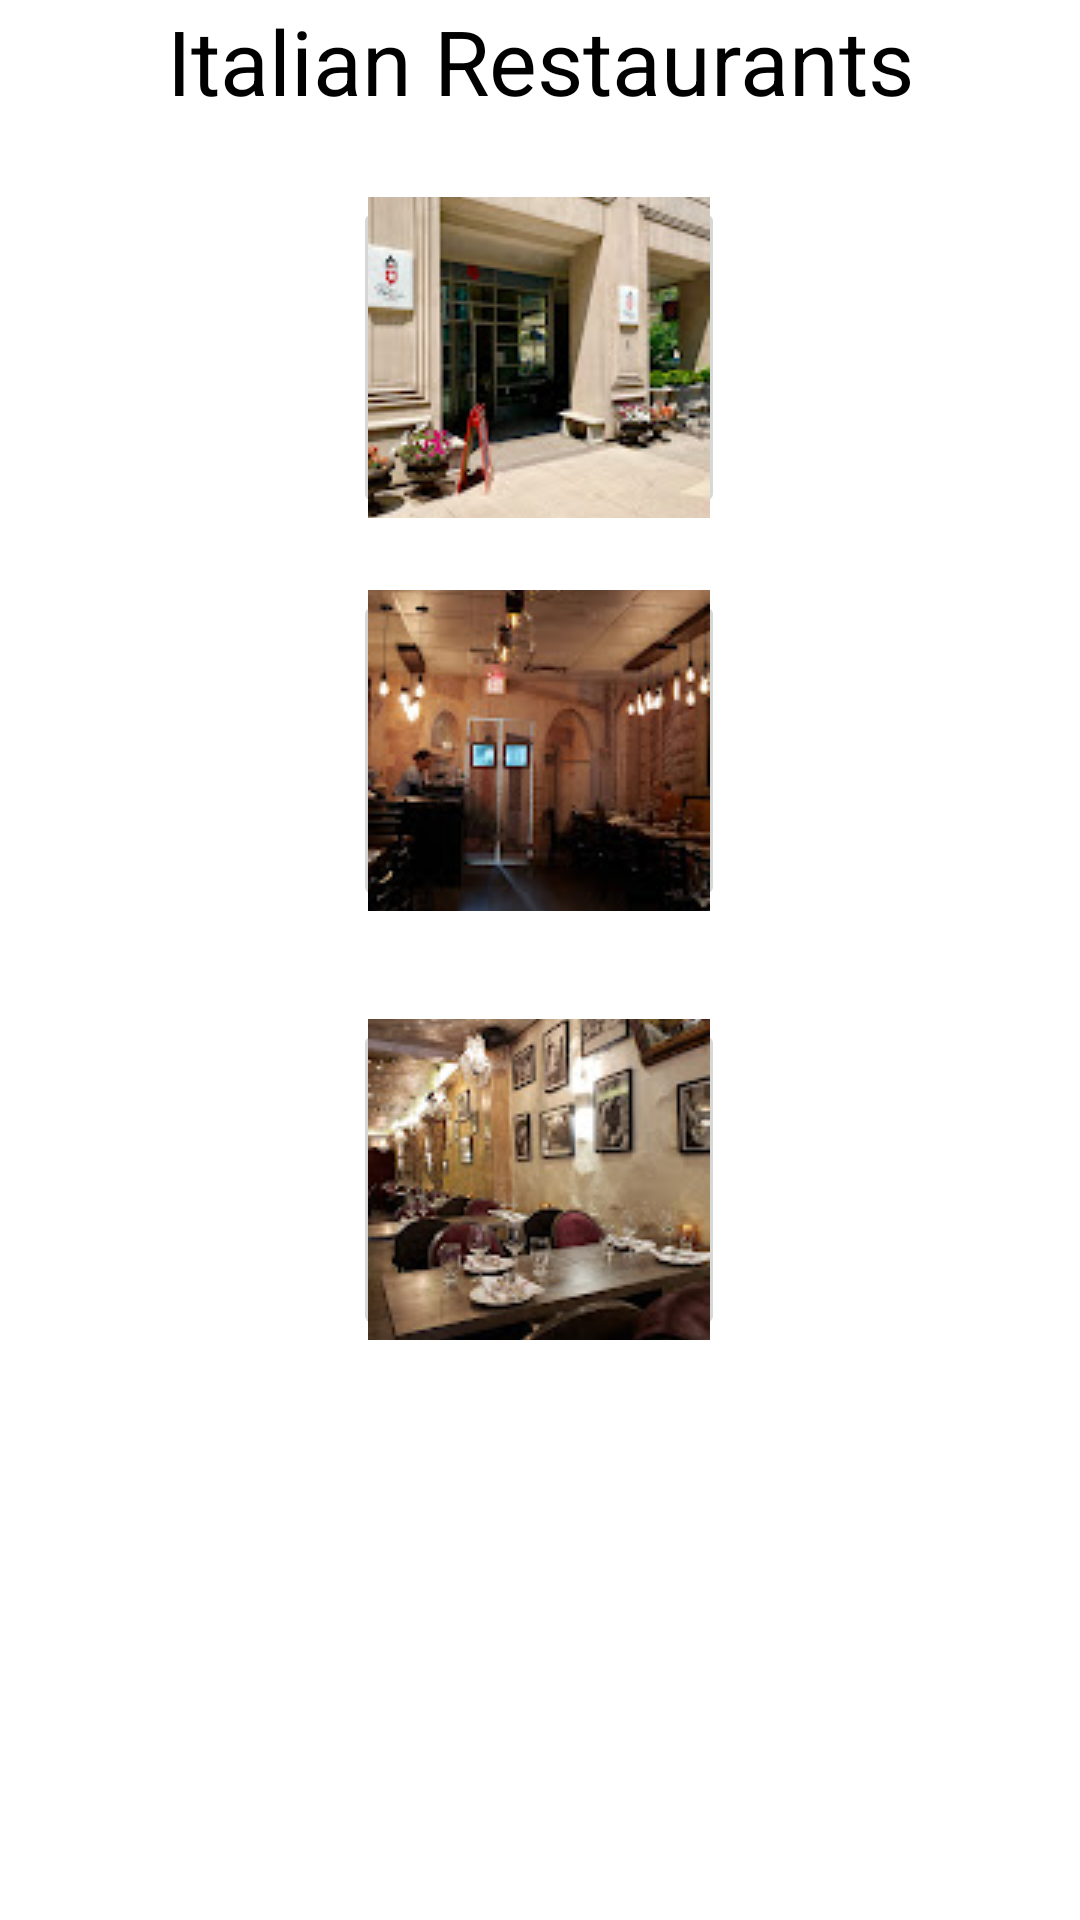

Point at icon controls on the screen. Image size 1080px x 1920px, points as (x=x, y=y).
italiani: (x=539, y=750)
italianii: (x=539, y=1179)
